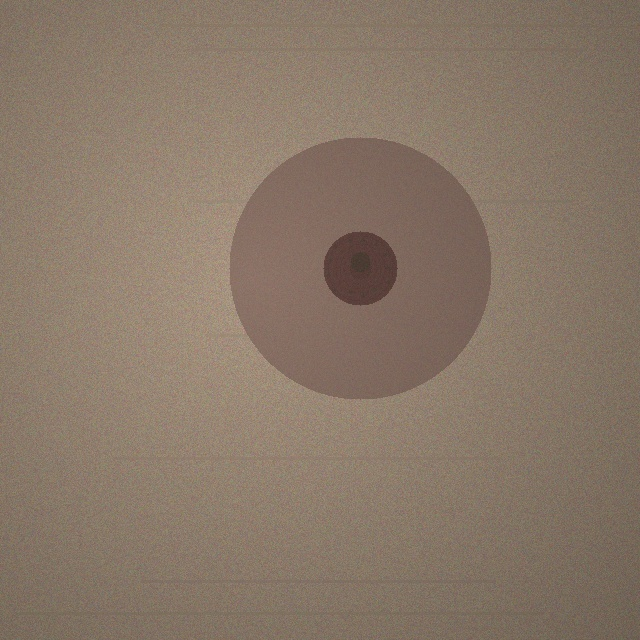cold_weld: (229, 137, 491, 399)
